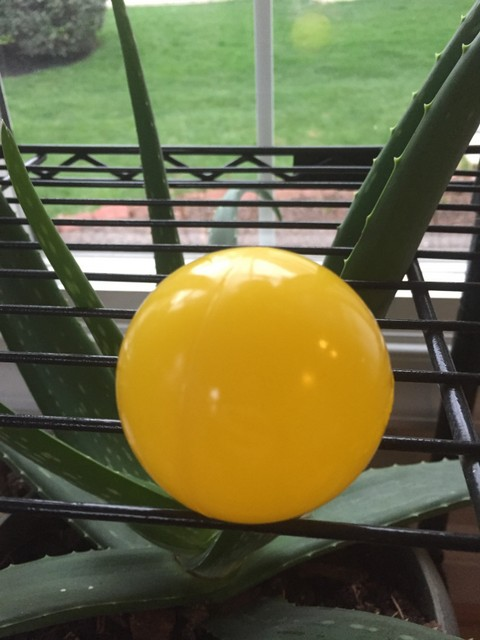ball: (113, 236, 395, 524)
